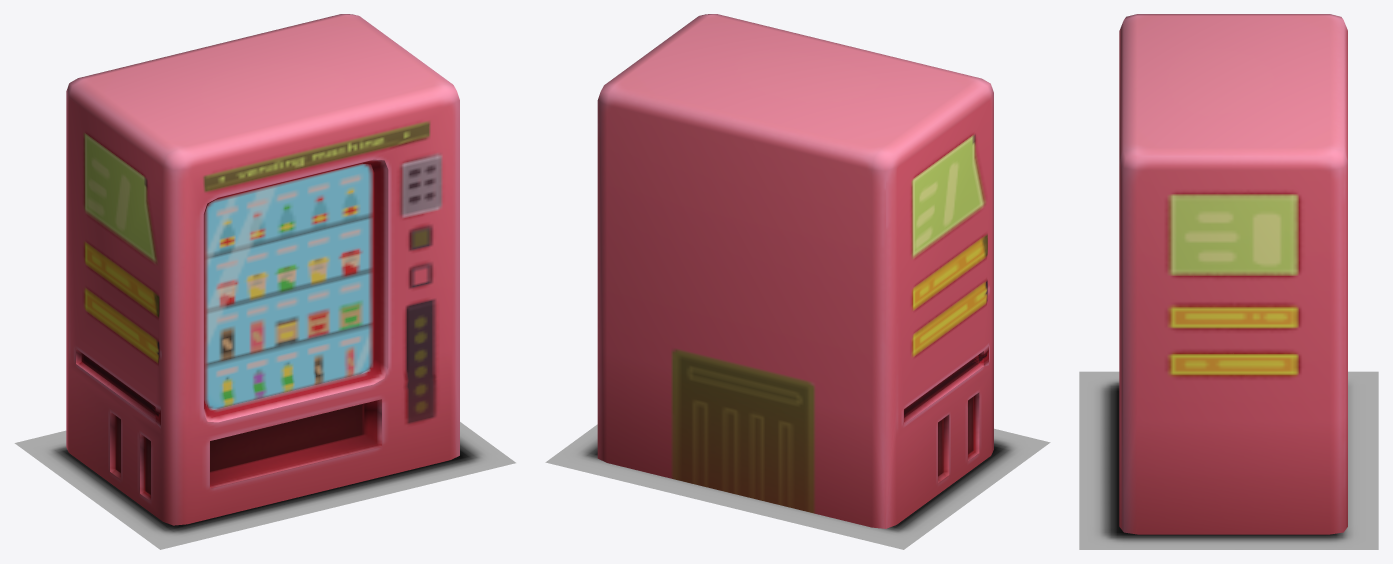
The model's file is StudentLounge_Item_VendingMachine.FBX.
3 views of the same model, side by side, from view 1: azimuth 30°, elevation 25°; view 2: azimuth 150°, elevation 25°; view 3: azimuth 270°, elevation 25° (orthographic). The views are drawn at different scales.
Parts seen in each view (by area): view 1: StudentLounge_Item_VendingMachine, StudentLounge_Shadow_VendingMachine; view 2: StudentLounge_Item_VendingMachine, StudentLounge_Shadow_VendingMachine; view 3: StudentLounge_Item_VendingMachine, StudentLounge_Shadow_VendingMachine.
Part boxes in pixels (left/top/right/bottom): StudentLounge_Item_VendingMachine: left=66, top=14, right=459, bottom=525; StudentLounge_Shadow_VendingMachine: left=14, top=422, right=515, bottom=549; StudentLounge_Item_VendingMachine: left=597, top=14, right=993, bottom=528; StudentLounge_Shadow_VendingMachine: left=545, top=424, right=1050, bottom=549; StudentLounge_Item_VendingMachine: left=1119, top=14, right=1347, bottom=534; StudentLounge_Shadow_VendingMachine: left=1079, top=371, right=1378, bottom=549.
Bounding box in the file's own units: 1.81 × 1.8 × 1.28.
2 materials, 2 textured.
